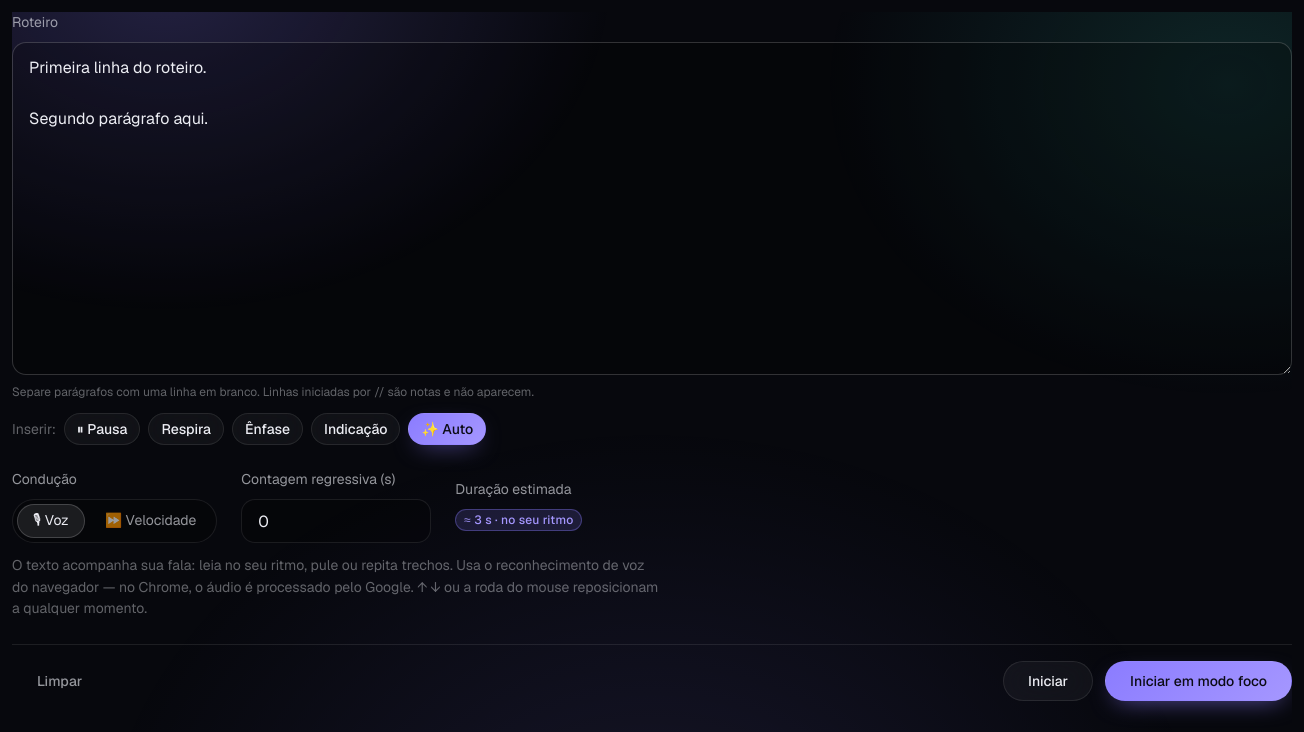
Scenario: <Teleprompter /> — editor › Limpar exige confirmação
This screenshot has width=1304, height=732.
Click the button "Limpar".
click(60, 681)  # box x1=12 y1=661 x2=107 y2=701
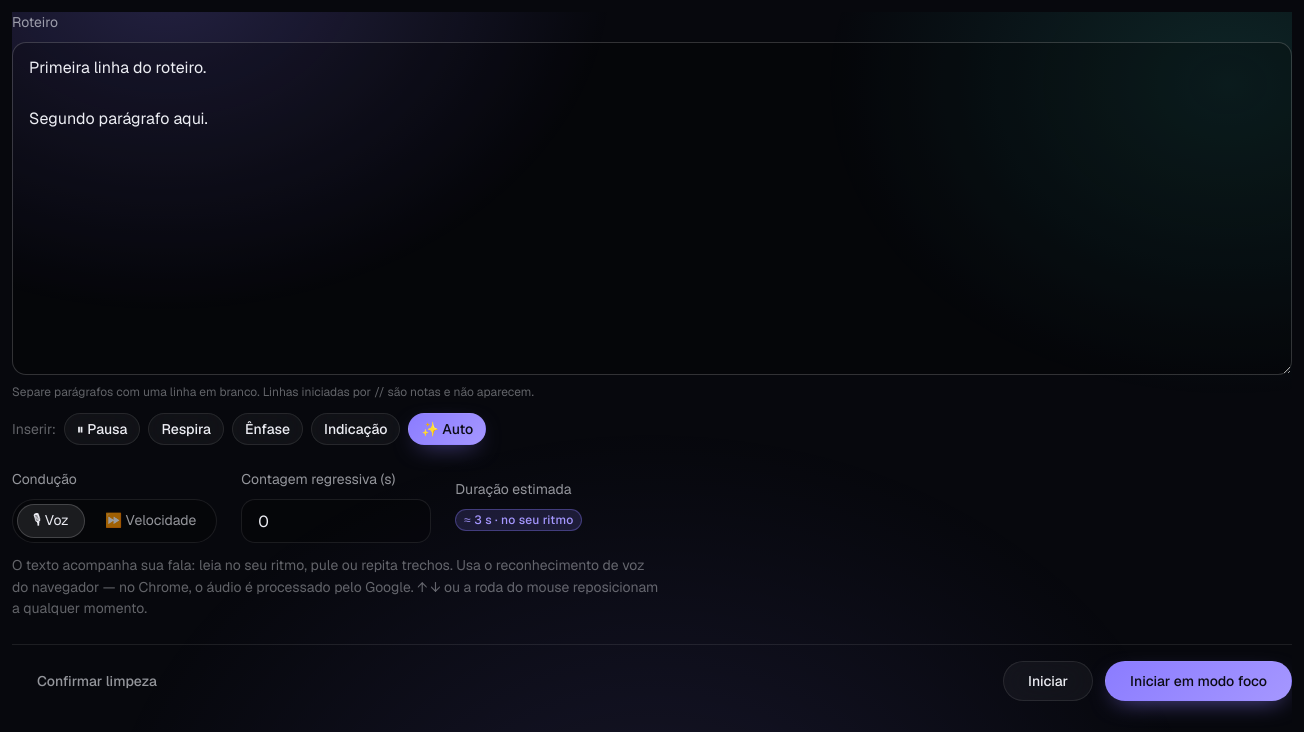
Click the button "Confirmar limpeza".
click(97, 681)  # box x1=12 y1=661 x2=182 y2=701
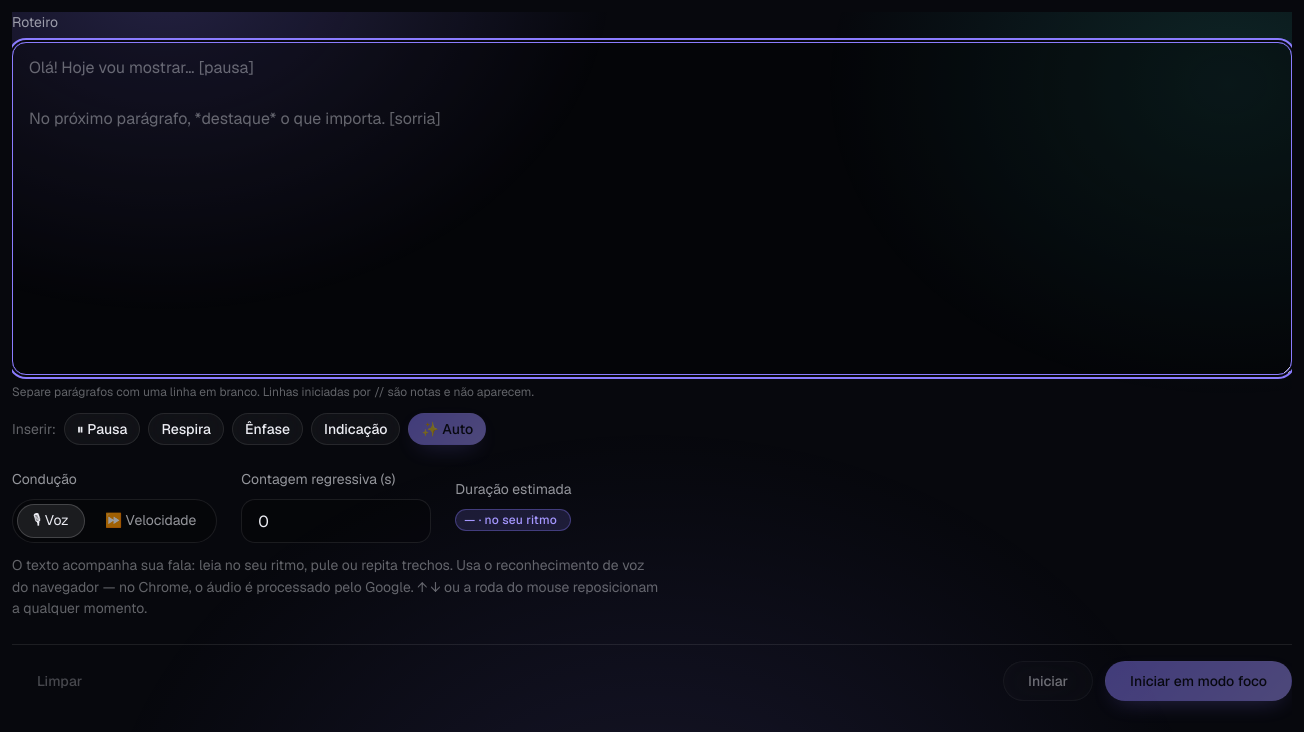
Expected: the text box labelled "Roteiro" is empty, x1=12 y1=42 x2=1292 y2=375
